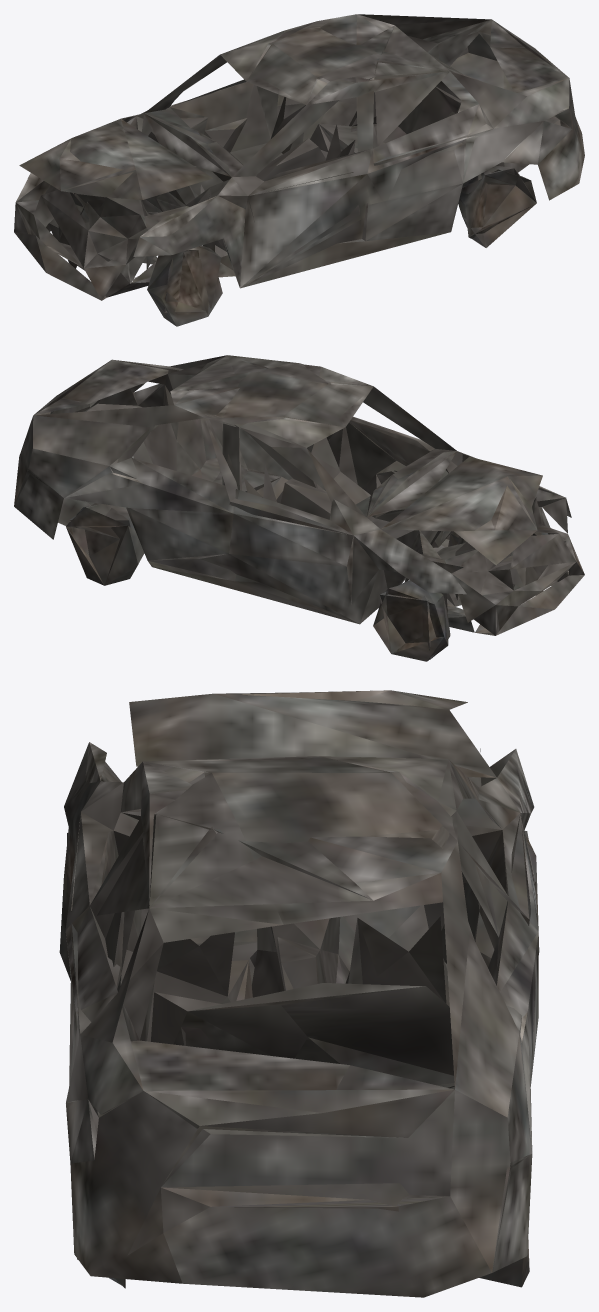
Rendered from prop-sedan-burned.glb.
3 renders of one model, top to bottom at view 1: azimuth 30°, elevation 25°; view 2: azimuth 150°, elevation 25°; view 3: azimuth 270°, elevation 25°, orthographic. The views are drawn at different scales.
Parts seen in each view (by area): view 1: output_unwrapped; view 2: output_unwrapped; view 3: output_unwrapped.
Boxes of the visible parts, x1,y1,x2,y2 form: output_unwrapped: [14, 14, 584, 326]; output_unwrapped: [14, 355, 584, 661]; output_unwrapped: [59, 690, 539, 1297].
Bounding box in the file's own units: 1.9 × 0.6475 × 0.7765.
1 material, 1 textured.
